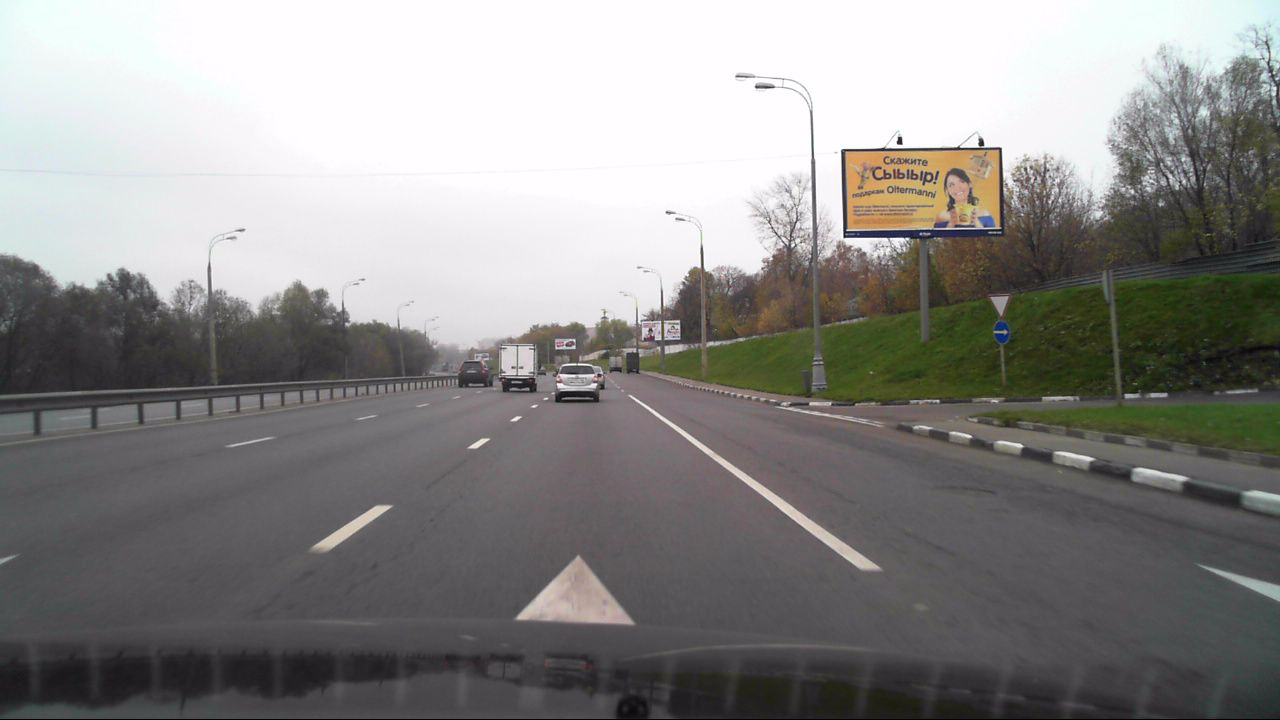Turn Right: (993, 321, 1010, 345)
